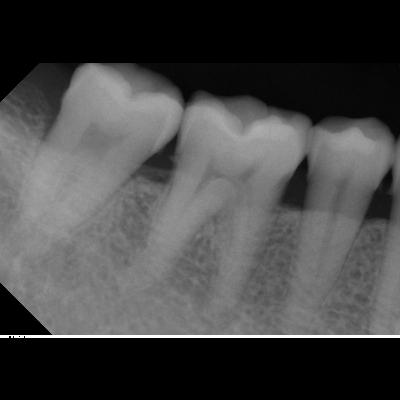tooth: (277, 114, 395, 334)
